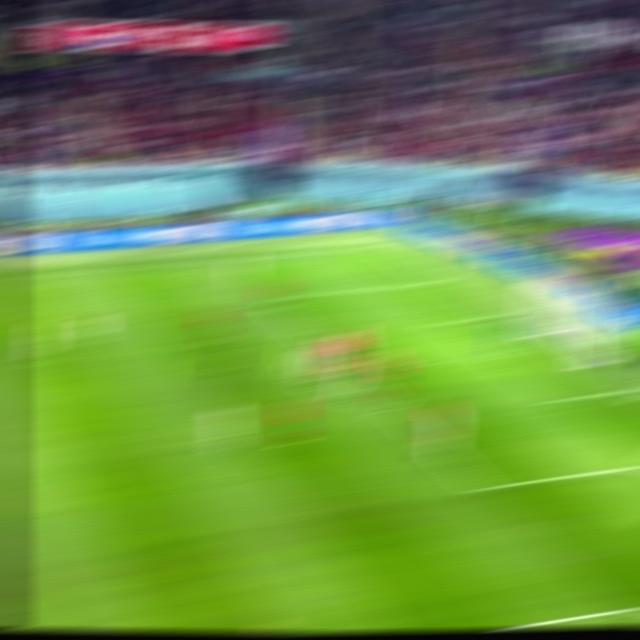bigarea_bottom_inner: (465, 476, 499, 498)
bigarea_top_inner: (251, 291, 282, 305)
bigarea_top_outter: (422, 275, 453, 288)
bottom_arc_area_intersection: (375, 400, 407, 415)
corner: (363, 240, 395, 252)
smallarea_bottom_inner: (536, 388, 571, 409)
smallarea_bottom_outter: (607, 383, 639, 398)
smallarea_top_inner: (423, 314, 454, 330)
smallarea_top_outter: (481, 308, 512, 322)
top_arc_area_intersection: (302, 336, 332, 348)
